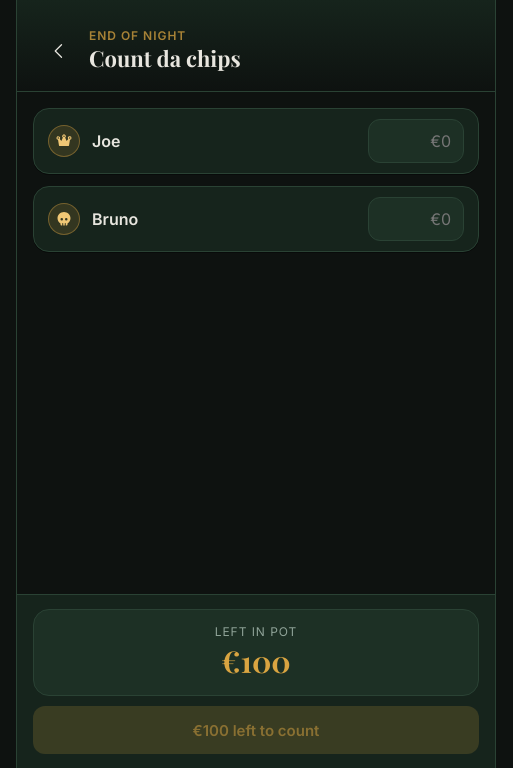
Scenario: CountView › keeps the split locked at zero remaining while a player is uncounted
Type "100" into the field named "Joe counted amount" at (416, 141), box [368,119,464,163]
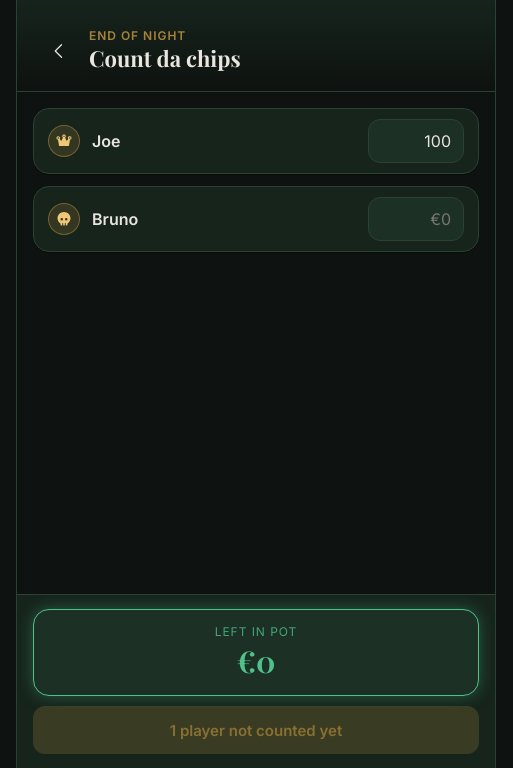
Expected: the button "1 player not counted yet" is disabled, [33,706,479,754]
Expected: the text "€0" is shown, [237,641,275,681]
Type "0" into the field named "Bruno counted amount" at (416, 219), box [368,197,464,241]
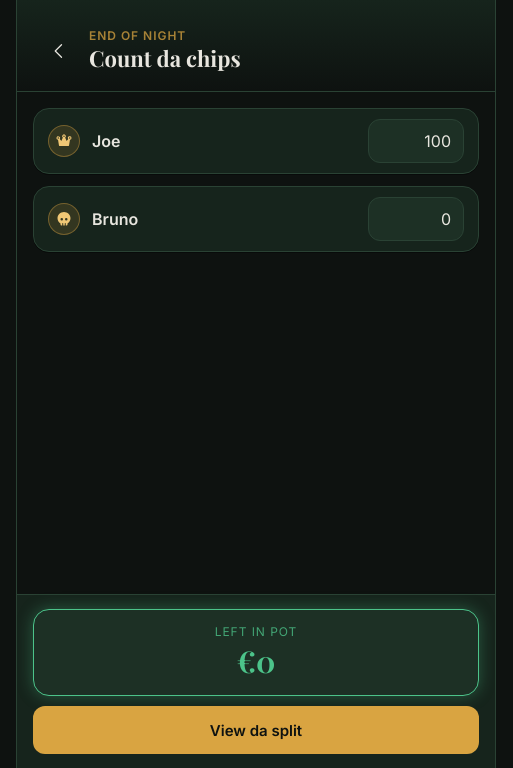
Expected: the button "View da split" is enabled, [33,706,479,754]
